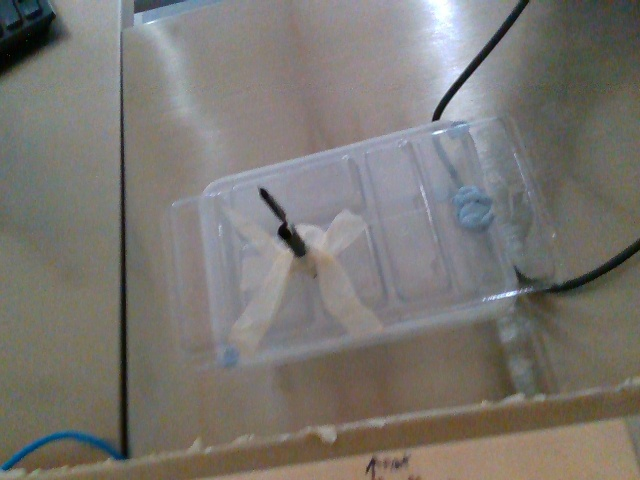test_strip: (253, 185, 293, 232)
